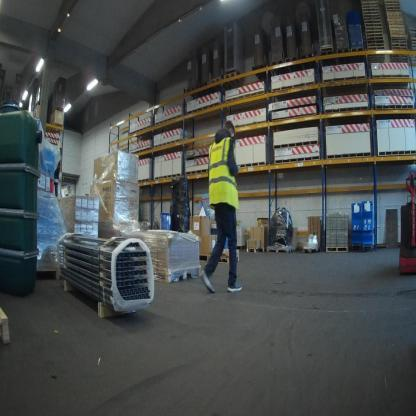pallets: (245, 242, 318, 257), (190, 246, 241, 266), (325, 246, 348, 252)
